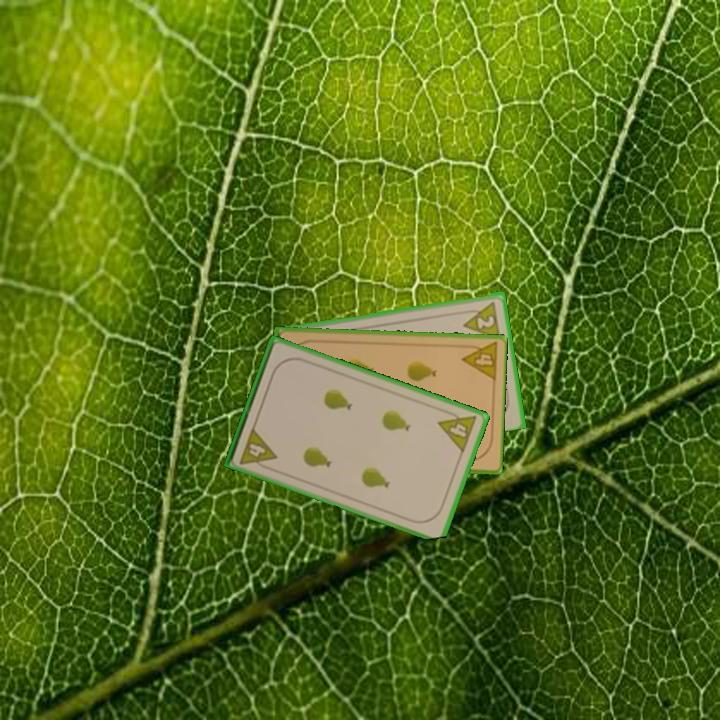2p: (458, 297, 503, 341)
4p: (435, 405, 480, 456), (236, 424, 280, 473), (458, 339, 500, 383)
